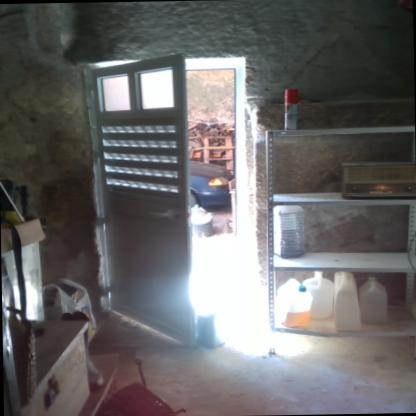semi: (83, 47, 266, 352)
